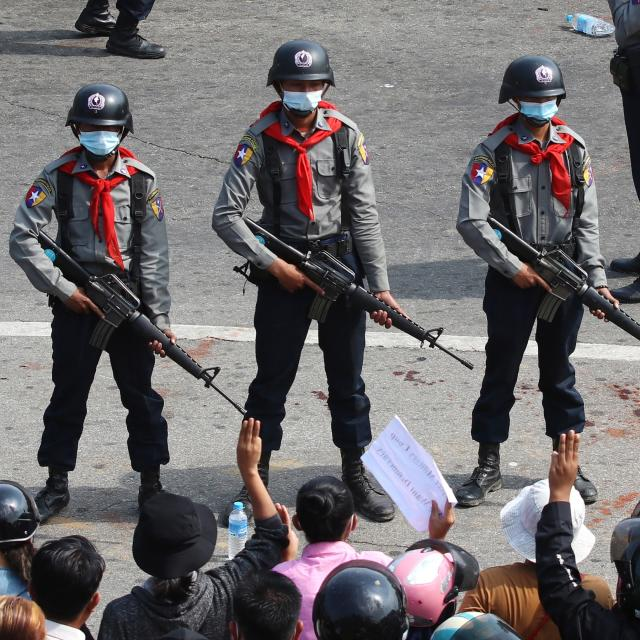police: (207, 4, 429, 511), (5, 39, 203, 524), (455, 21, 640, 504)
